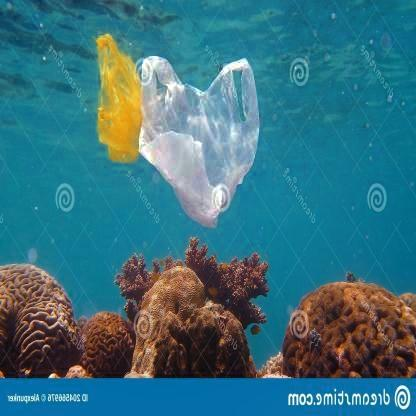pbag: (138, 55, 261, 229), (94, 33, 144, 164)
